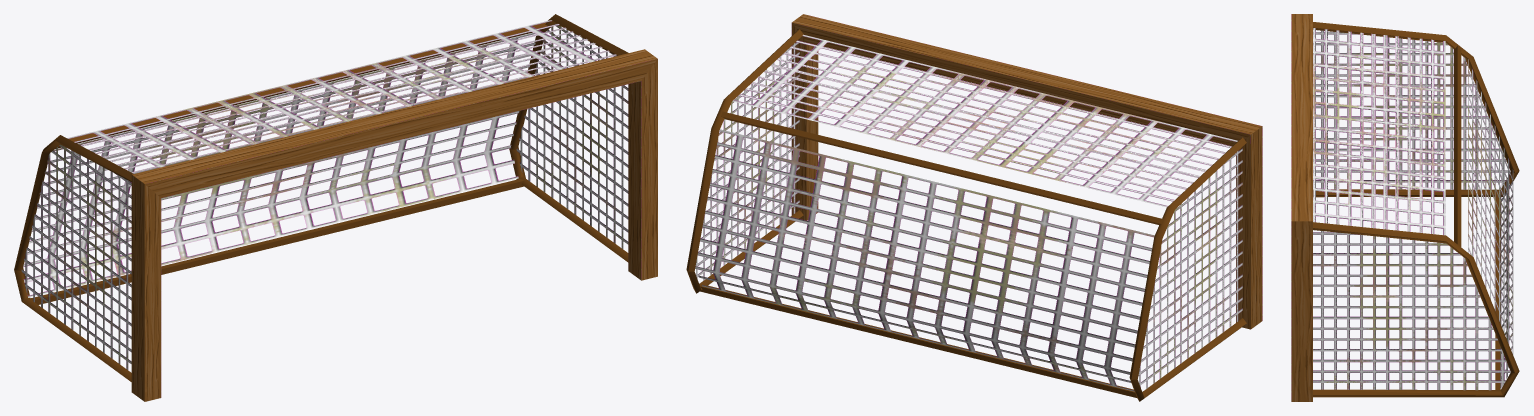
The model's file is goal.obj.
3 views of the same model, side by side, from view 1: azimuth 30°, elevation 25°; view 2: azimuth 150°, elevation 25°; view 3: azimuth 270°, elevation 25° (orthographic). The views are drawn at different scales.
Visible parts, largest first — view 1: (unnamed)_0; view 2: (unnamed)_0; view 3: (unnamed)_0.
Part boxes in pixels (x1=…): (unnamed)_0: x1=14, y1=14, x2=657, y2=401; (unnamed)_0: x1=686, y1=14, x2=1262, y2=401; (unnamed)_0: x1=1291, y1=14, x2=1519, y2=401.
Bounding box in the file's own units: 38.37 × 15.58 × 17.83.
Materials: 1 (1 with a texture image).
